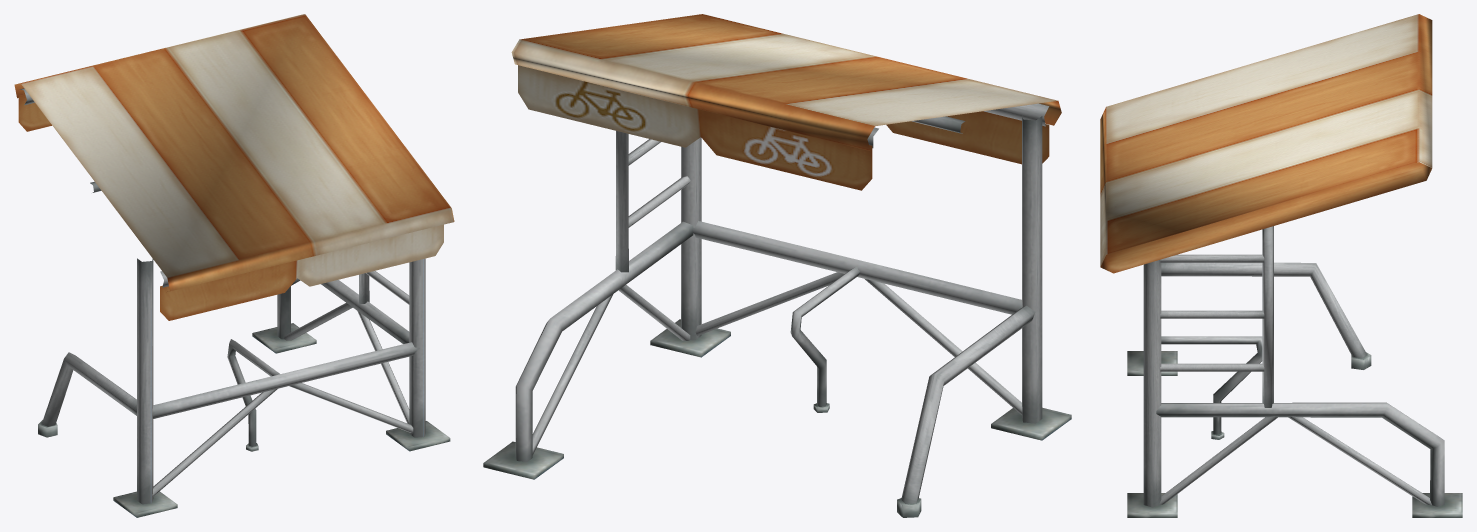
Rendered from a_SEbike01_2.glb.
3 renders of one model, left to right at view 1: azimuth 30°, elevation 25°; view 2: azimuth 150°, elevation 25°; view 3: azimuth 270°, elevation 25°, orthographic. The views are drawn at different scales.
Parts seen in each view (by area): view 1: a_SEbike01_2; view 2: a_SEbike01_2; view 3: a_SEbike01_2.
Part boxes in pixels (x1,y1,x2,y2): a_SEbike01_2: [14, 14, 454, 517]; a_SEbike01_2: [483, 14, 1071, 517]; a_SEbike01_2: [1100, 14, 1462, 517].
Bounding box in the file's own units: 2.3 × 2.31 × 2.16.
1 material, 1 textured.
